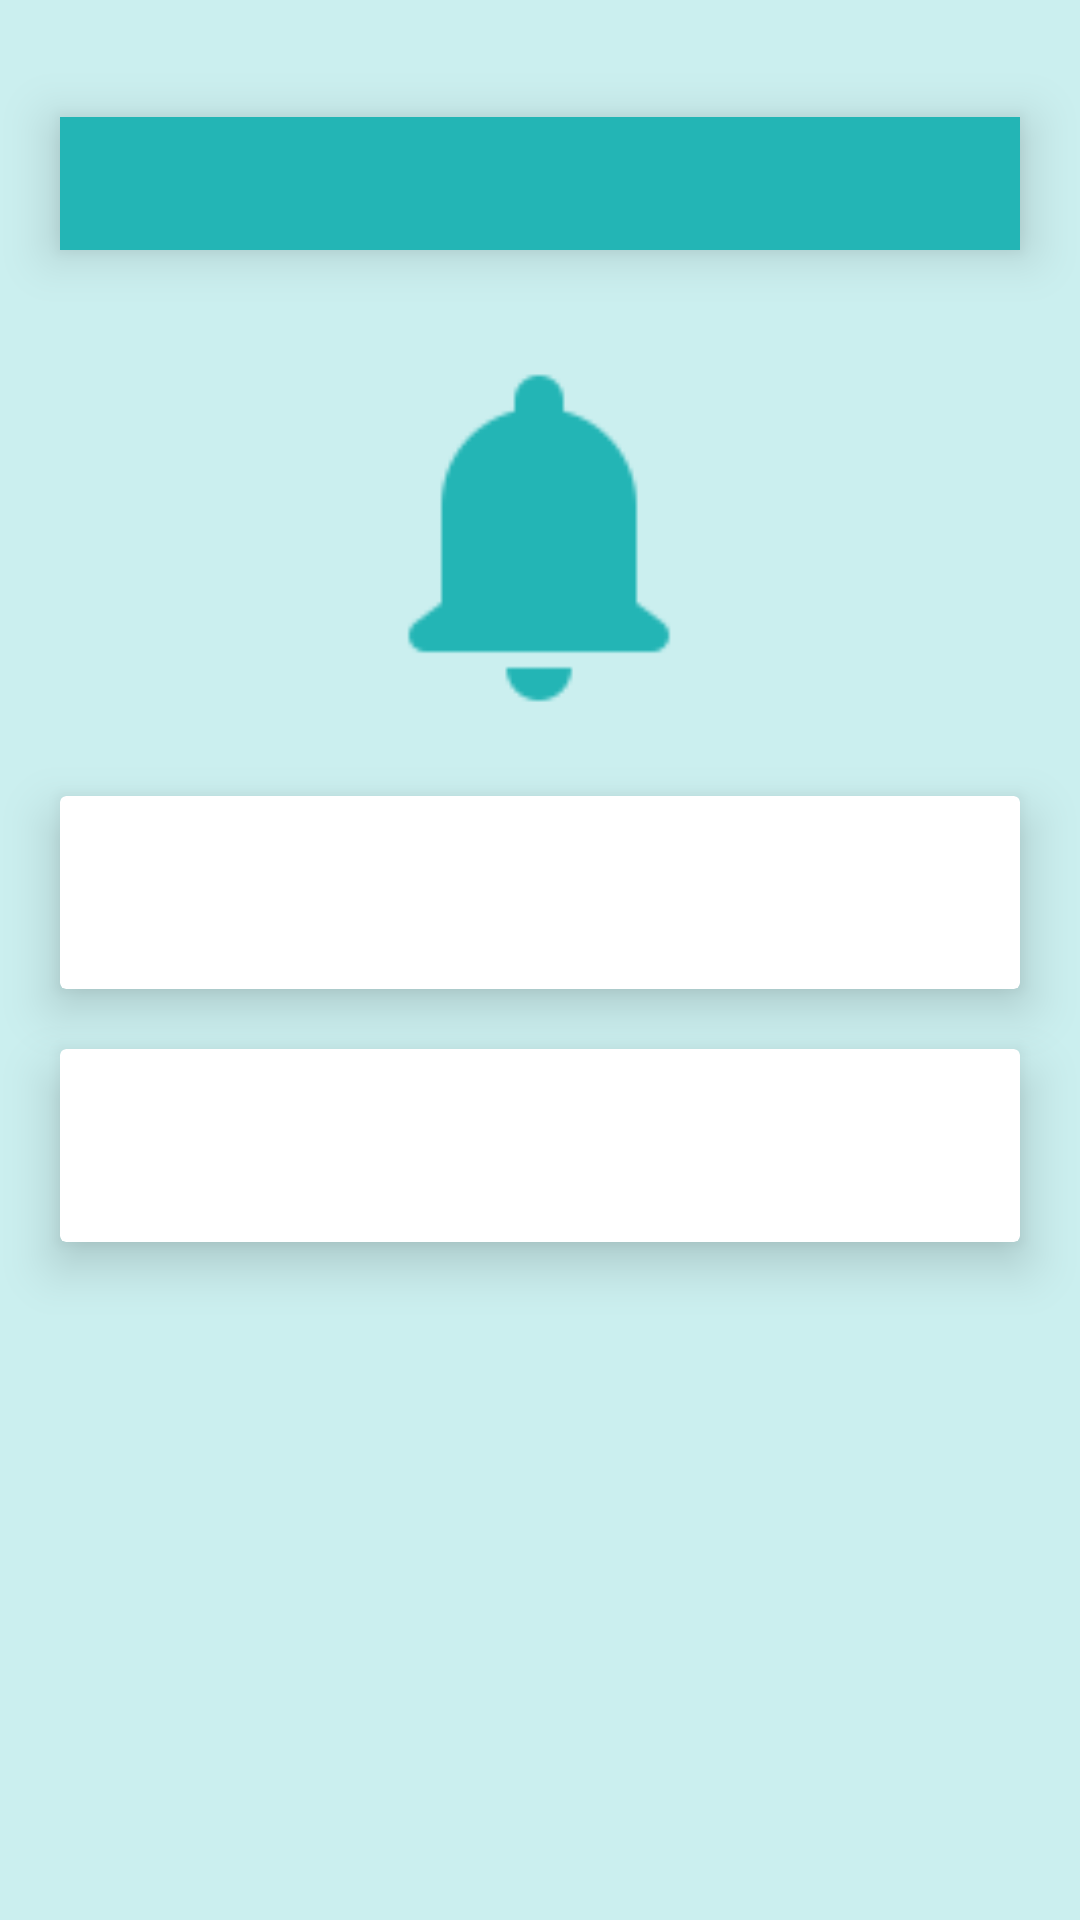

Locate icon controls on the screen. Image size 1080 × 1920, boxes as (x1, y1, x2, y2).
notification: (408, 374, 670, 702)
